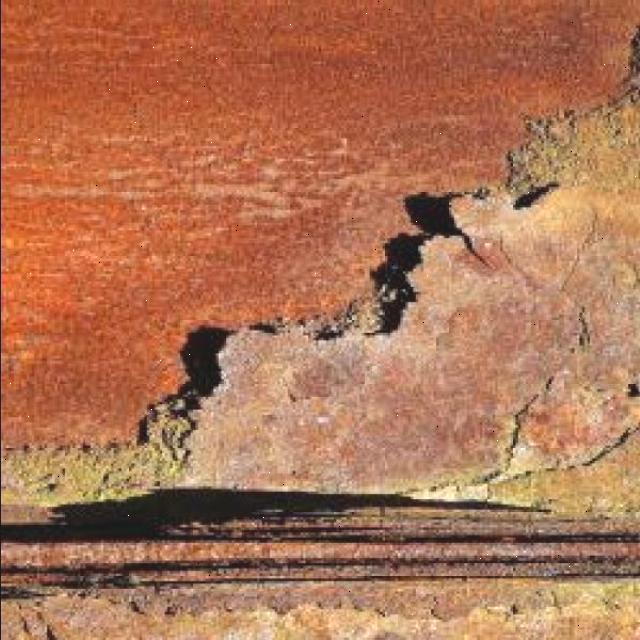crack: (488, 187, 640, 472), (231, 180, 480, 349), (506, 15, 640, 201), (140, 309, 305, 450), (50, 595, 148, 637), (199, 583, 301, 616), (501, 402, 534, 470), (228, 606, 293, 636)
dampness: (7, 480, 630, 633)
